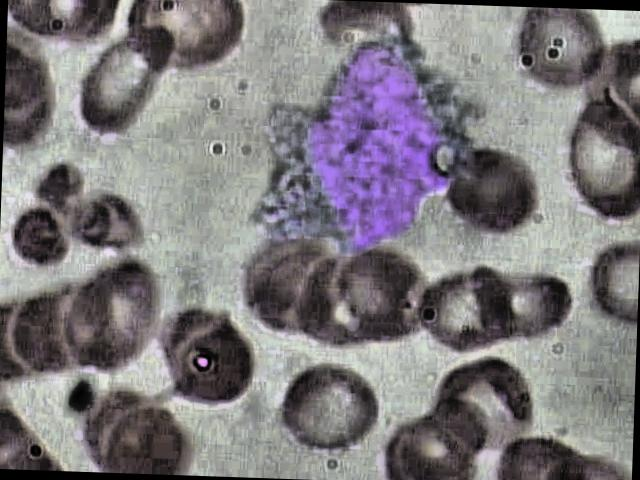RBC: (146, 292, 261, 418), (66, 25, 181, 150), (424, 348, 540, 464), (75, 260, 169, 380), (274, 364, 384, 458), (559, 96, 640, 223), (439, 149, 549, 241), (503, 6, 613, 98), (141, 0, 251, 77), (417, 267, 514, 354), (474, 270, 573, 350)
WBC: (242, 30, 488, 260)
